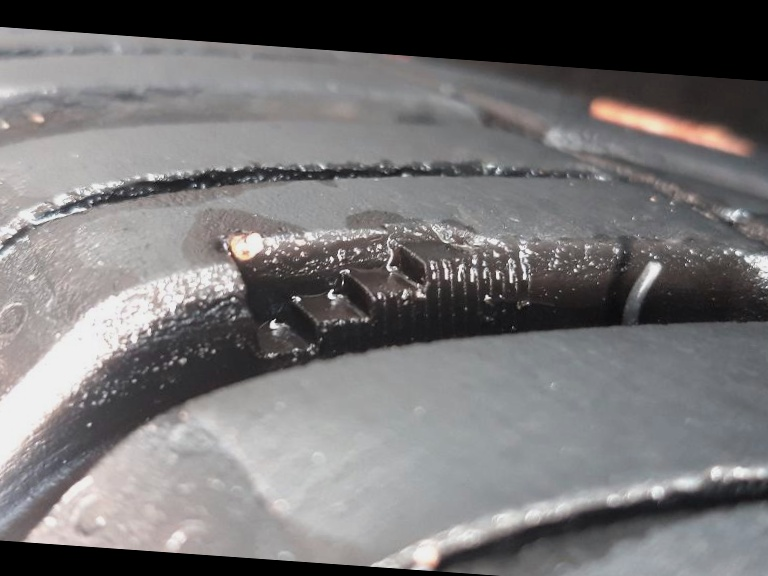temoin:80: (207, 198, 542, 397)
